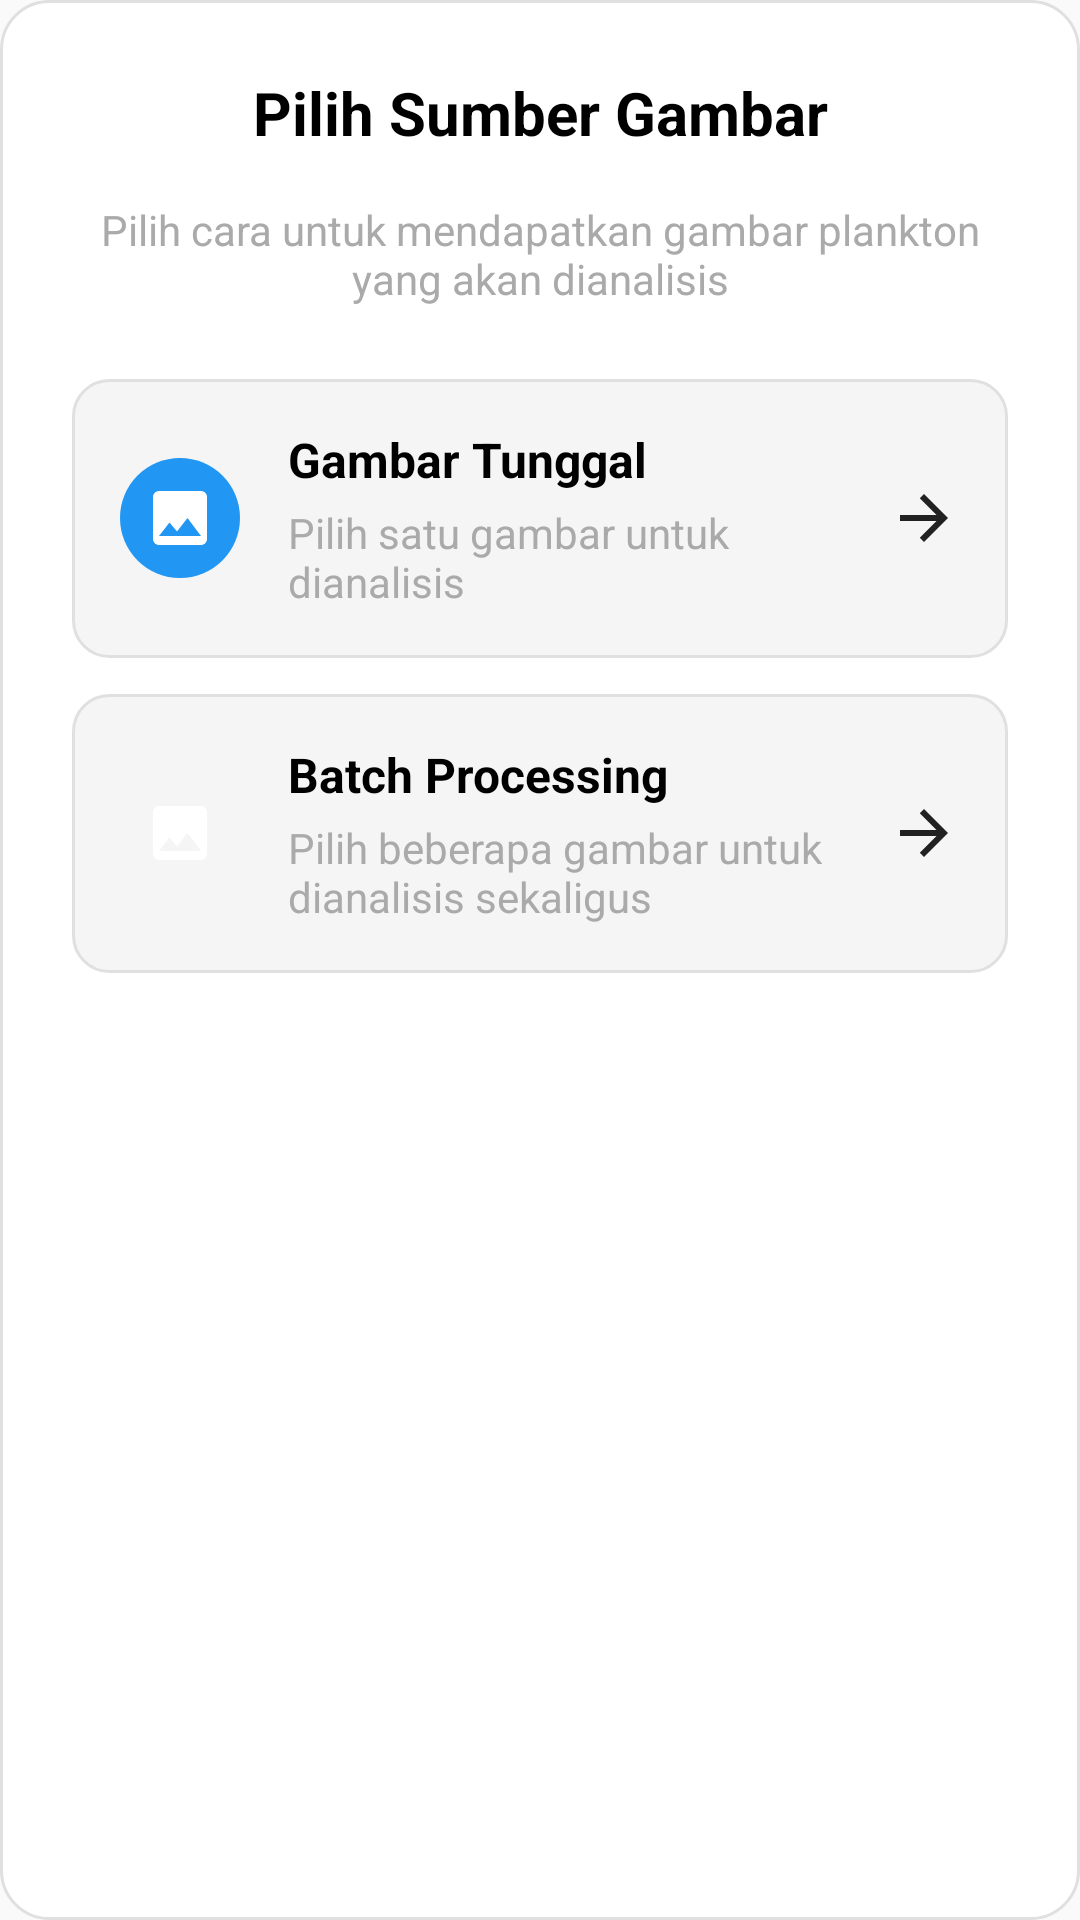

Point at icon controls on the screen. Image size 1080x1920, points as (x=x, y=y).
Single Image: (x=180, y=518)
